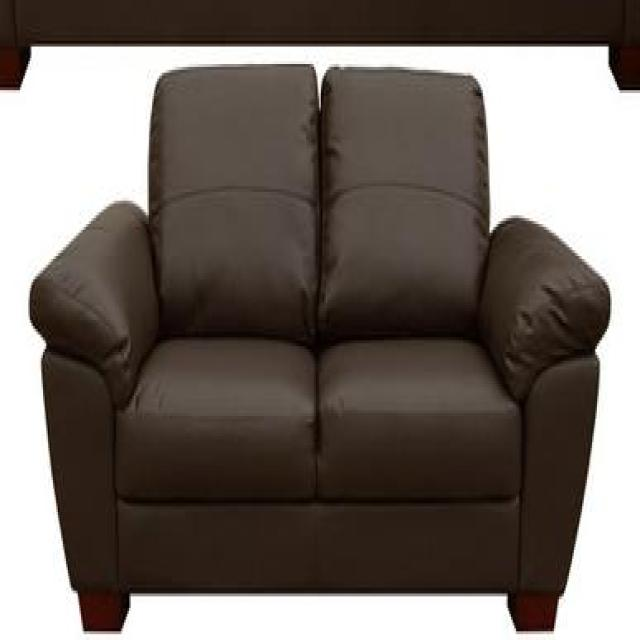sofa: (28, 58, 610, 631)
